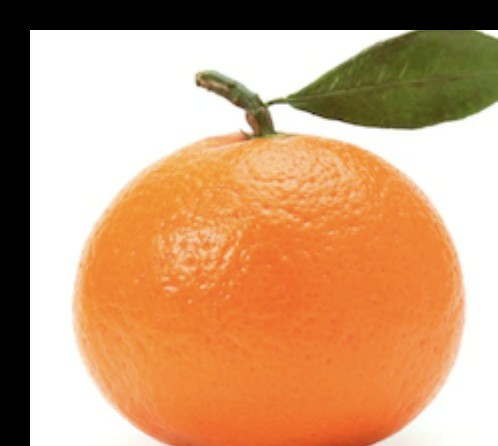fresh_orange: (74, 123, 466, 446)
